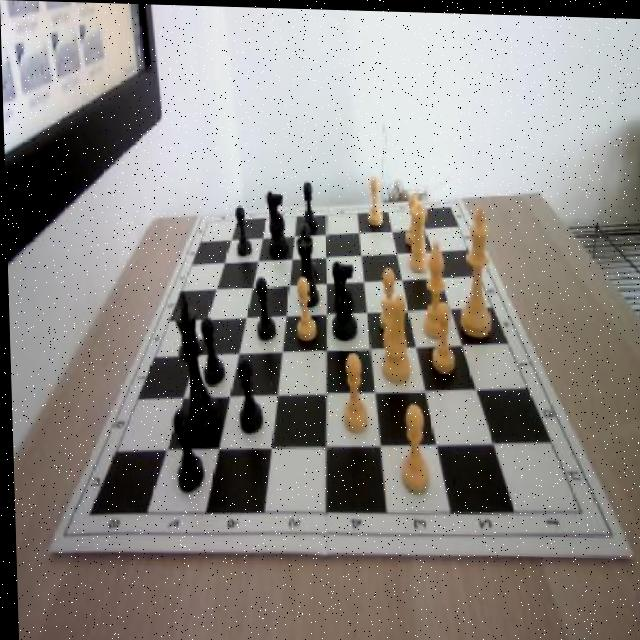black-bishop: (170, 296, 218, 442)
black-king: (327, 256, 357, 338), (264, 186, 288, 258)
black-knight: (171, 407, 202, 491), (233, 354, 260, 432), (199, 315, 224, 385), (252, 273, 276, 341), (295, 224, 317, 282), (234, 204, 251, 257), (299, 178, 316, 228)
black-queen: (295, 231, 321, 308)
black-rook: (419, 237, 449, 337)
white-bishop: (455, 203, 492, 334)
white-king: (373, 282, 415, 385)
white-knight: (395, 401, 430, 492), (335, 348, 368, 433), (427, 298, 456, 374), (376, 266, 402, 334), (292, 273, 314, 339), (402, 192, 421, 243), (364, 176, 383, 225)
white-queen: (404, 200, 429, 271)
